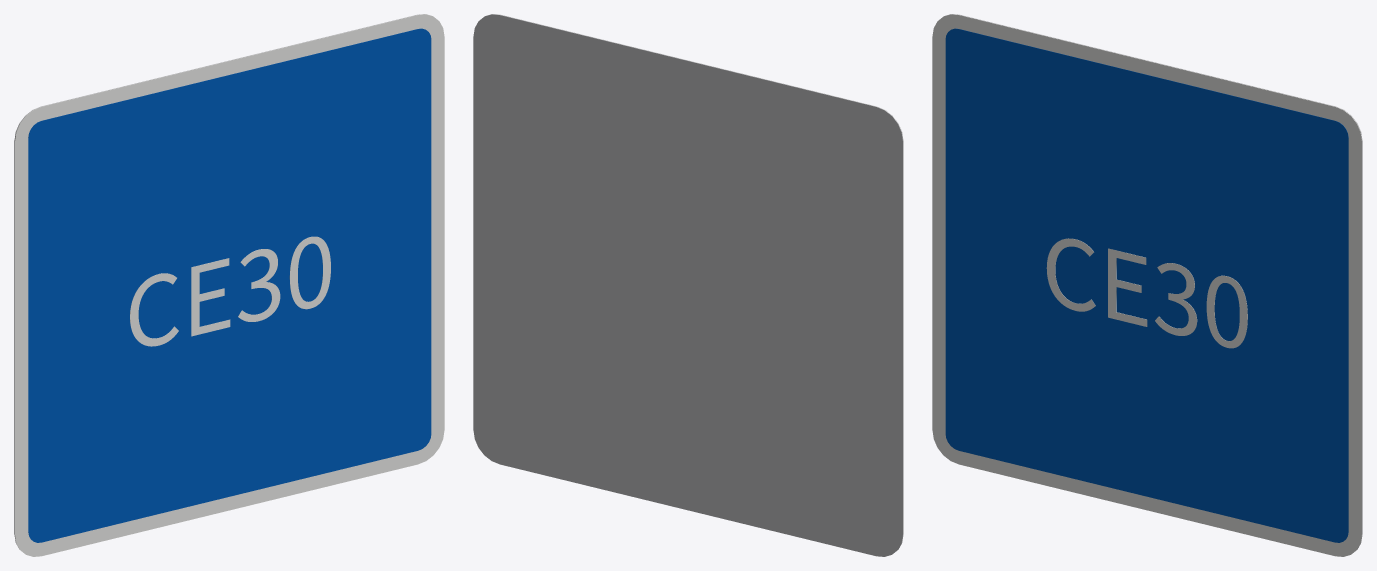
The picture shows the model from 3 angles, left to right: view 1: azimuth 30°, elevation 25°; view 2: azimuth 150°, elevation 25°; view 3: azimuth 330°, elevation 25°; orthographic projection.
Parts seen in each view (by area): view 1: CE30_fond01, CE30_cadre00, CE30_txt02, CE30_dos; view 2: CE30_dos, CE30_cadre00; view 3: CE30_fond01, CE30_cadre00, CE30_txt02, CE30_dos.
Boxes of the visible parts, x1,y1,x2,y2 form: CE30_fond01: [28, 28, 431, 542]; CE30_cadre00: [15, 14, 444, 556]; CE30_txt02: [130, 236, 330, 346]; CE30_dos: [14, 14, 432, 549]; CE30_dos: [473, 14, 903, 556]; CE30_cadre00: [493, 14, 903, 547]; CE30_fond01: [945, 28, 1348, 542]; CE30_cadre00: [932, 14, 1361, 556]; CE30_txt02: [1046, 238, 1247, 348]; CE30_dos: [944, 14, 1362, 549].
Bounding box in the file's own units: 0.65 × 0.65 × 0.0025.
